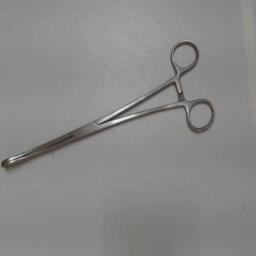Sponge Forceps: (0, 36, 220, 178)
